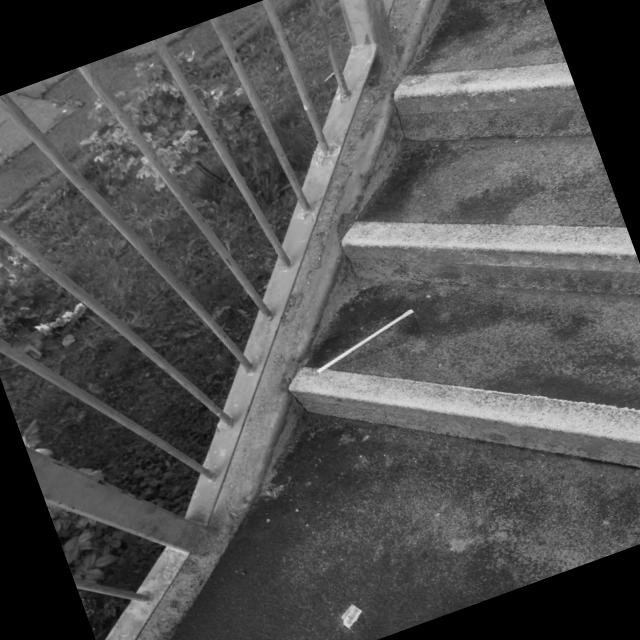Straw: (318, 310, 414, 374)
Unlabeled litter: (341, 604, 363, 628)
